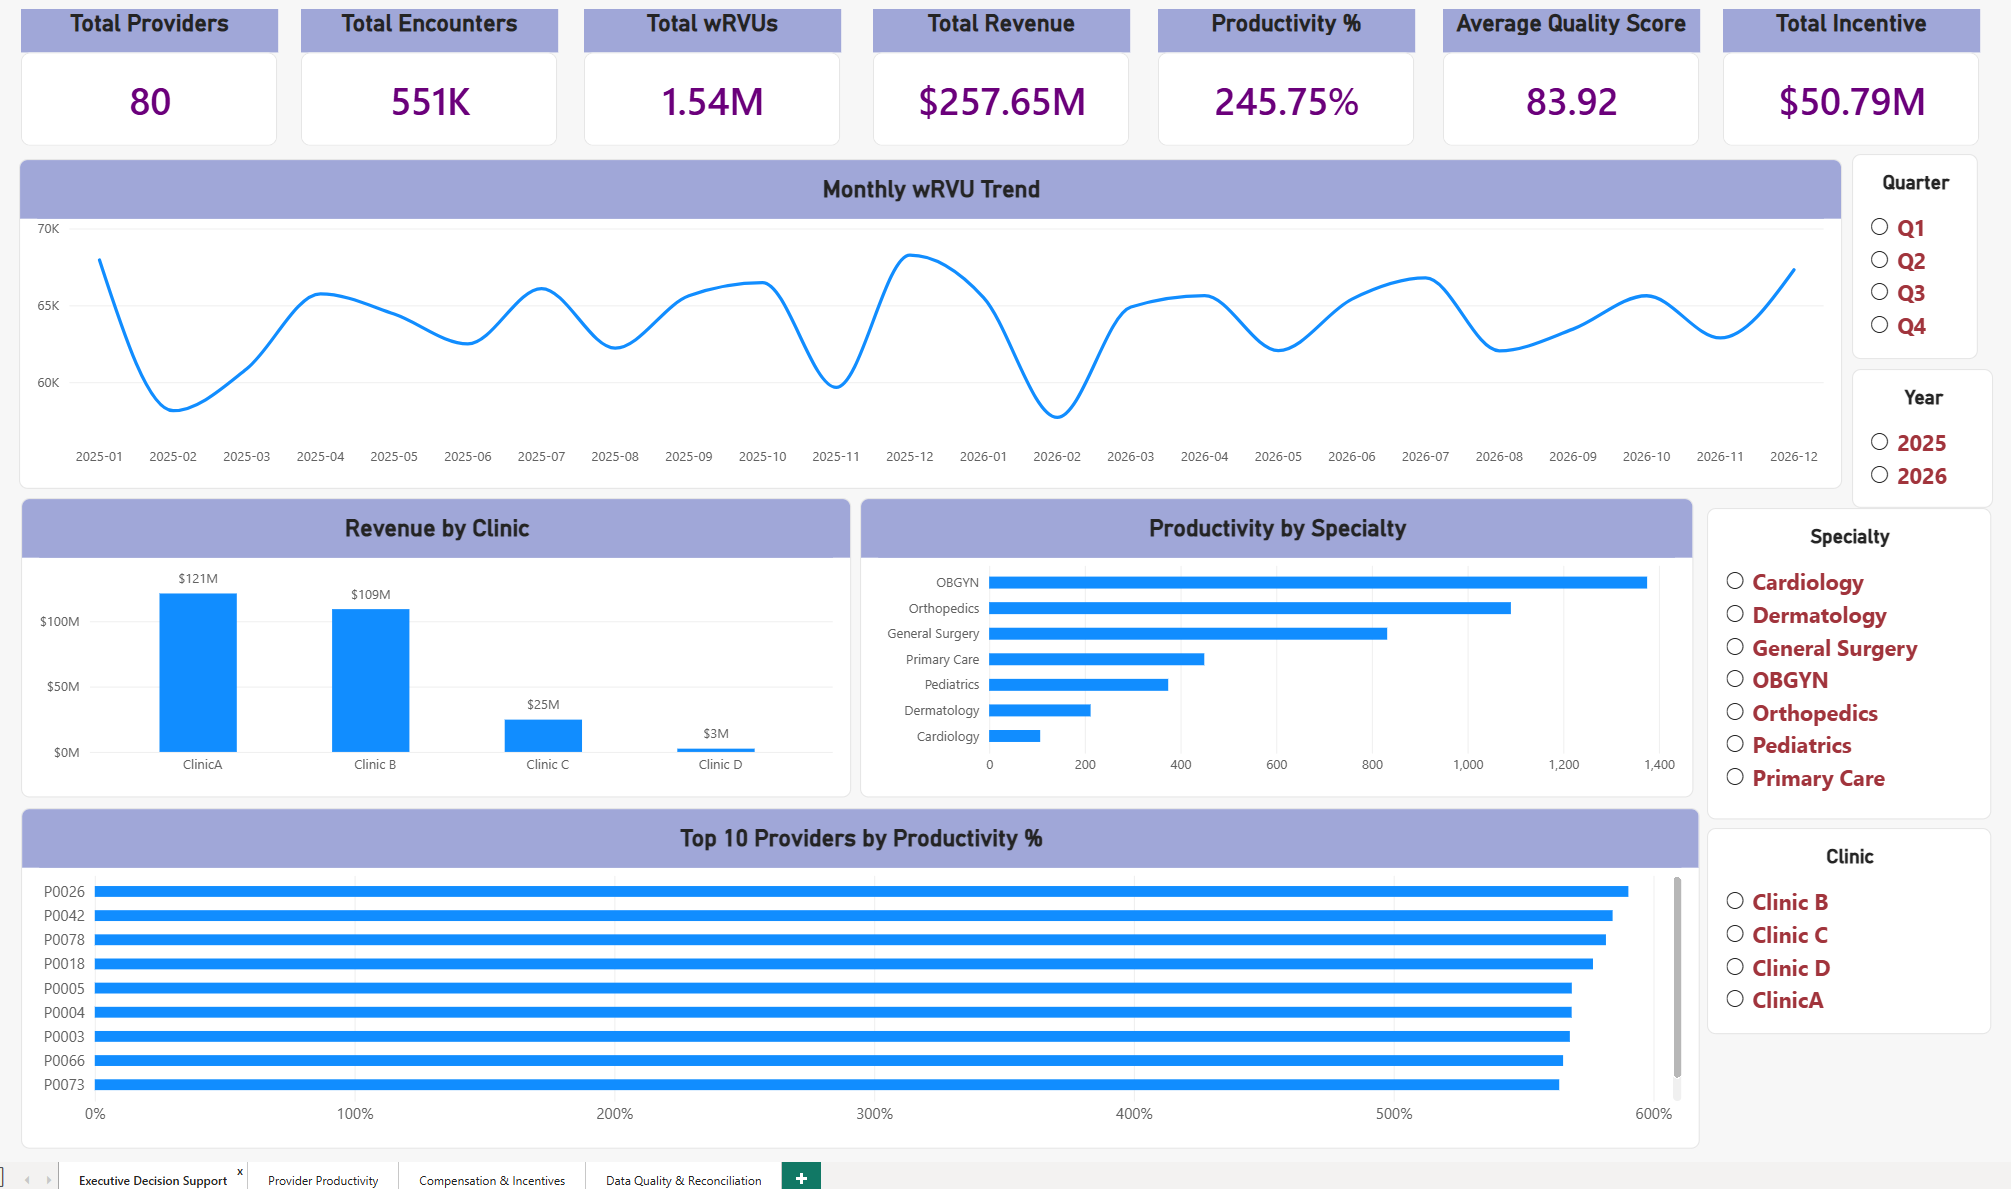

What the dashboard file says about the page in this screenshot:
{"tool":"powerbi","page":{"name":"Executive Decision Support","canvas":[1920,1080],"ordinal":0},"visuals":[{"type":"cardVisual","title":"Total Providers","fields":{"Data":["fact_provider_monthly.Total Providers"]},"box":[64.1,17.4,236.9,126],"z":0},{"type":"cardVisual","title":"Total Encounters","fields":{"Data":["fact_provider_monthly.Total Encounters"]},"box":[322.7,17.4,236.9,126],"z":1000},{"type":"cardVisual","title":"Total wRVUs","fields":{"Data":["fact_provider_monthly.Total wRVUs"]},"box":[583.5,17.4,236.9,126],"z":2000},{"type":"cardVisual","title":"Total Revenue","fields":{"Data":["fact_provider_monthly.Total Revenue"]},"box":[849.7,17.4,236.9,126],"z":3000},{"type":"cardVisual","title":"Productivity %","fields":{"Data":["fact_provider_monthly.Productivity %"]},"box":[1112.7,17.4,236.9,126],"z":4000},{"type":"cardVisual","title":"Average Quality Score","fields":{"Data":["fact_provider_monthly.Average Quality Score"]},"box":[1374.5,17.4,236.9,126],"z":5000},{"type":"cardVisual","title":"Total Incentive","fields":{"Data":["fact_provider_monthly.Total Incentive"]},"box":[1633.1,17.4,236.9,126],"z":6000},{"type":"lineChart","title":"Monthly wRVU Trend","fields":{"Category":["DimDate.Year Month"],"Y":["fact_provider_monthly.Total wRVUs"]},"box":[63,155.4,1679.9,304.2],"z":7000},{"type":"clusteredBarChart","title":"Productivity by Specialty","fields":{"Category":["dim_providers.specialty"],"Y":["Sum(fact_provider_monthly.productivity_pct)"]},"box":[837.8,468.3,768.2,276],"z":8000},{"type":"columnChart","title":"Revenue by Clinic","fields":{"Category":["fact_provider_monthly.clinic"],"Y":["fact_provider_monthly.Total Revenue"]},"box":[64.1,468.3,765,276],"z":9000},{"type":"barChart","title":"Top 10 Providers by Productivity %","fields":{"Category":["dim_providers.provider_id"],"Y":["fact_provider_monthly.Productivity %"]},"box":[64.1,754.1,1547.3,314],"z":10000},{"type":"listSlicer","fields":{"Values":["DimDate.Year"]},"box":[1751.6,348.8,130.4,128.2],"z":11000},{"type":"listSlicer","fields":{"Values":["DimDate.Quarter"]},"box":[1751.3,150.8,116.1,188.5],"z":12000},{"type":"listSlicer","title":"Specialty","fields":{"Values":["dim_providers.specialty"]},"box":[1617.9,477,261.9,286.9],"z":13000},{"type":"listSlicer","title":"Clinic","fields":{"Values":["dim_providers.clinic"]},"box":[1617.9,772.6,261.9,190.2],"z":14000}]}

Visuals, with their boxes on the page's 1920x1080 design canvas (x1, y1, x2, y2). These are canvas units, not pixel positions in the 2011x1189 screenshot, which may show the page scaled, cropped or inside an application window:
"Total Providers" cardVisual: [left=64, top=17, right=301, bottom=143]
"Total Encounters" cardVisual: [left=323, top=17, right=560, bottom=143]
"Total wRVUs" cardVisual: [left=584, top=17, right=820, bottom=143]
"Total Revenue" cardVisual: [left=850, top=17, right=1087, bottom=143]
"Productivity %" cardVisual: [left=1113, top=17, right=1350, bottom=143]
"Average Quality Score" cardVisual: [left=1374, top=17, right=1611, bottom=143]
"Total Incentive" cardVisual: [left=1633, top=17, right=1870, bottom=143]
"Monthly wRVU Trend" lineChart: [left=63, top=155, right=1743, bottom=460]
"Productivity by Specialty" clusteredBarChart: [left=838, top=468, right=1606, bottom=744]
"Revenue by Clinic" columnChart: [left=64, top=468, right=829, bottom=744]
"Top 10 Providers by Productivity %" barChart: [left=64, top=754, right=1611, bottom=1068]
listSlicer - DimDate.Year: [left=1752, top=349, right=1882, bottom=477]
listSlicer - DimDate.Quarter: [left=1751, top=151, right=1867, bottom=339]
"Specialty" listSlicer: [left=1618, top=477, right=1880, bottom=764]
"Clinic" listSlicer: [left=1618, top=773, right=1880, bottom=963]
